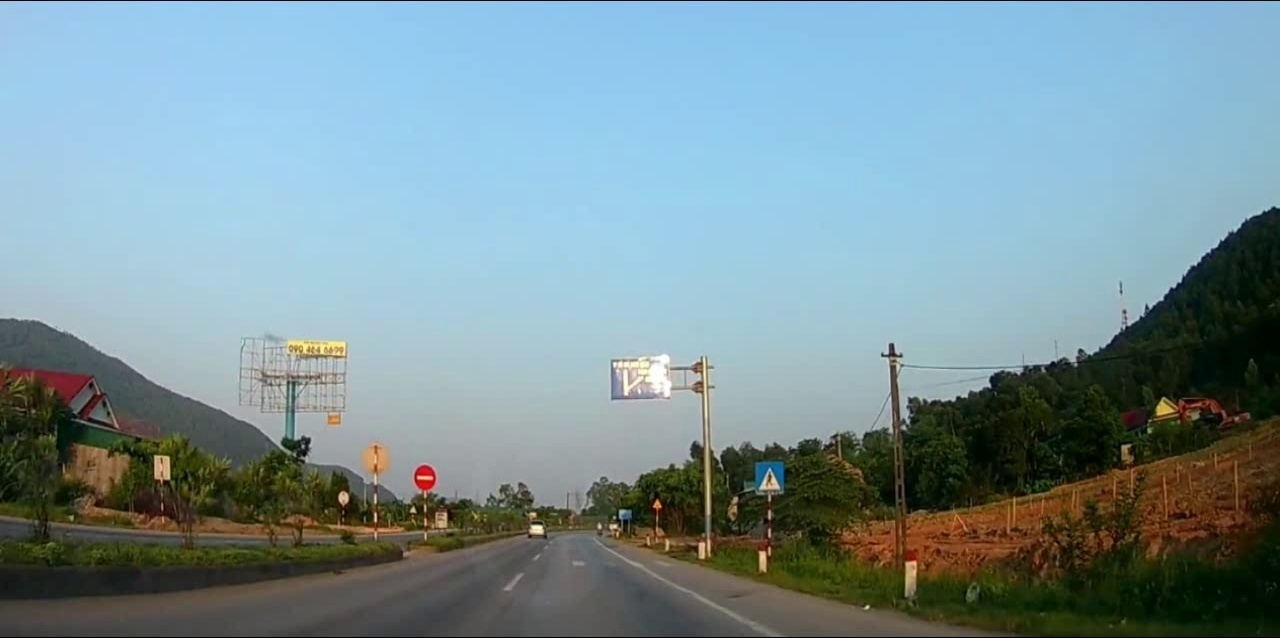Cam di nguoc chieu: (411, 461, 438, 491)
Nguoi di bo: (753, 460, 784, 494)
